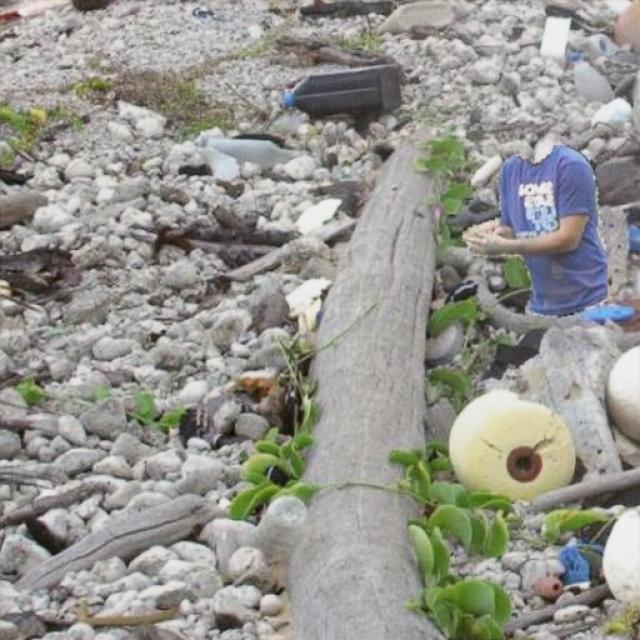Person in Rubble: (462, 145, 606, 316)
